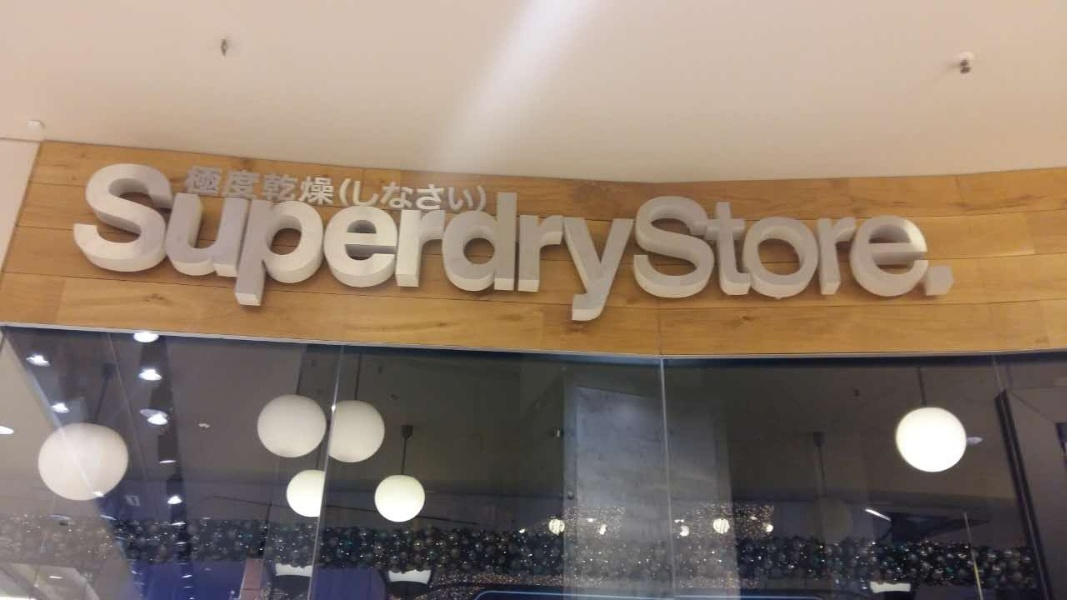text: (97, 159, 112, 339), (113, 159, 128, 339), (129, 159, 144, 339), (145, 159, 160, 339), (161, 159, 176, 339), (177, 159, 192, 339), (193, 159, 208, 339), (209, 159, 224, 339), (225, 159, 240, 339), (241, 159, 256, 339), (257, 159, 272, 339), (273, 159, 288, 339), (289, 159, 304, 339), (305, 159, 320, 339), (321, 159, 336, 339), (337, 159, 352, 339), (353, 159, 368, 339), (369, 159, 384, 339), (385, 159, 400, 339), (401, 159, 416, 339), (417, 159, 432, 339), (433, 159, 448, 339), (449, 159, 464, 339), (465, 159, 480, 339), (481, 159, 496, 339), (497, 159, 512, 339), (513, 159, 528, 339), (529, 159, 544, 339), (545, 159, 560, 339), (561, 159, 576, 339), (577, 159, 592, 339), (593, 159, 608, 339), (609, 159, 624, 339), (625, 159, 640, 339), (641, 159, 656, 339), (657, 159, 672, 339), (673, 159, 688, 339), (689, 159, 704, 339), (705, 159, 720, 339), (721, 159, 736, 339), (737, 159, 752, 339), (753, 159, 768, 339), (769, 159, 784, 339), (785, 159, 800, 339), (801, 159, 816, 339), (817, 159, 832, 339), (833, 159, 848, 339), (849, 159, 864, 339), (865, 159, 880, 339), (881, 159, 896, 339), (897, 159, 912, 339), (913, 159, 928, 339), (929, 159, 944, 339), (945, 159, 960, 339), (193, 166, 208, 218), (209, 166, 224, 218), (225, 166, 240, 218), (241, 166, 256, 218), (257, 166, 272, 218), (273, 166, 288, 218), (289, 166, 304, 218), (305, 166, 320, 218), (321, 166, 336, 218), (337, 166, 352, 218), (353, 166, 368, 218), (369, 166, 384, 218), (385, 166, 400, 218), (401, 166, 416, 218), (417, 166, 432, 218), (433, 166, 448, 218), (449, 166, 464, 218), (465, 166, 480, 218), (481, 166, 490, 218), (94, 159, 96, 339), (188, 166, 192, 218)
